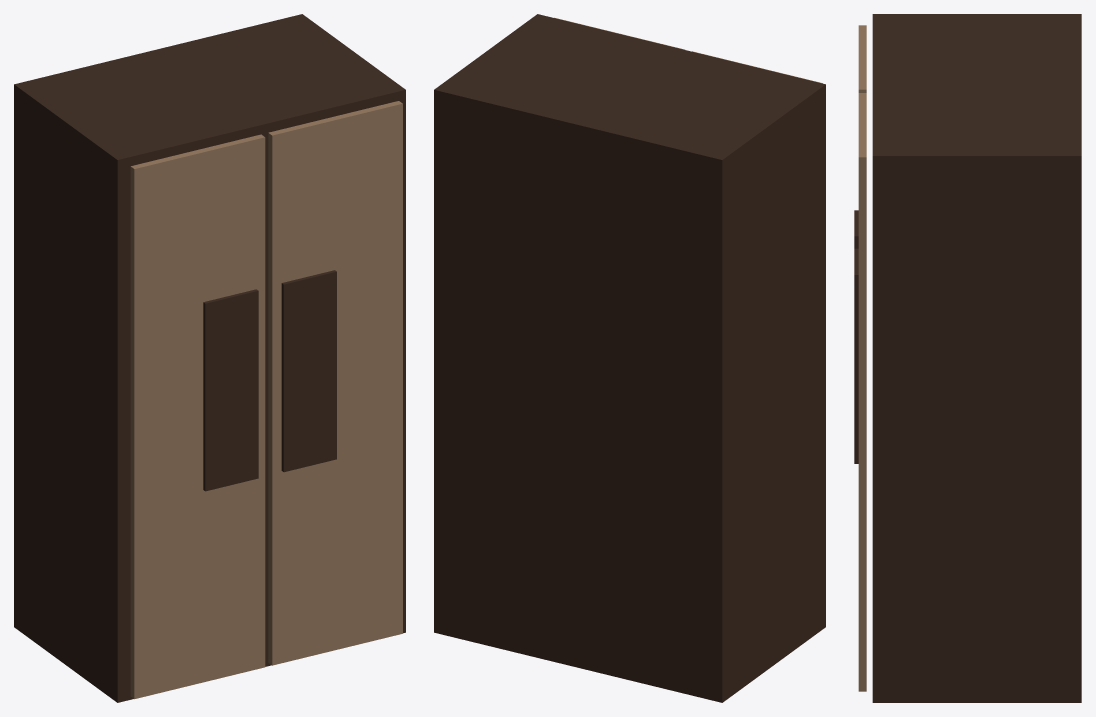
The model's file is Locker.gltf.
The picture shows the model from 3 angles, left to right: view 1: azimuth 30°, elevation 25°; view 2: azimuth 150°, elevation 25°; view 3: azimuth 270°, elevation 25°; orthographic projection.
Visible parts, largest first — view 1: Locker; view 2: Locker; view 3: Locker.
Boxes of the visible parts, x1,y1,x2,y2 form: Locker: (14,14,405,702); Locker: (434,14,825,702); Locker: (854,14,1081,702).
Bounding box in the file's own units: 1.15 × 2.08 × 0.7812.
